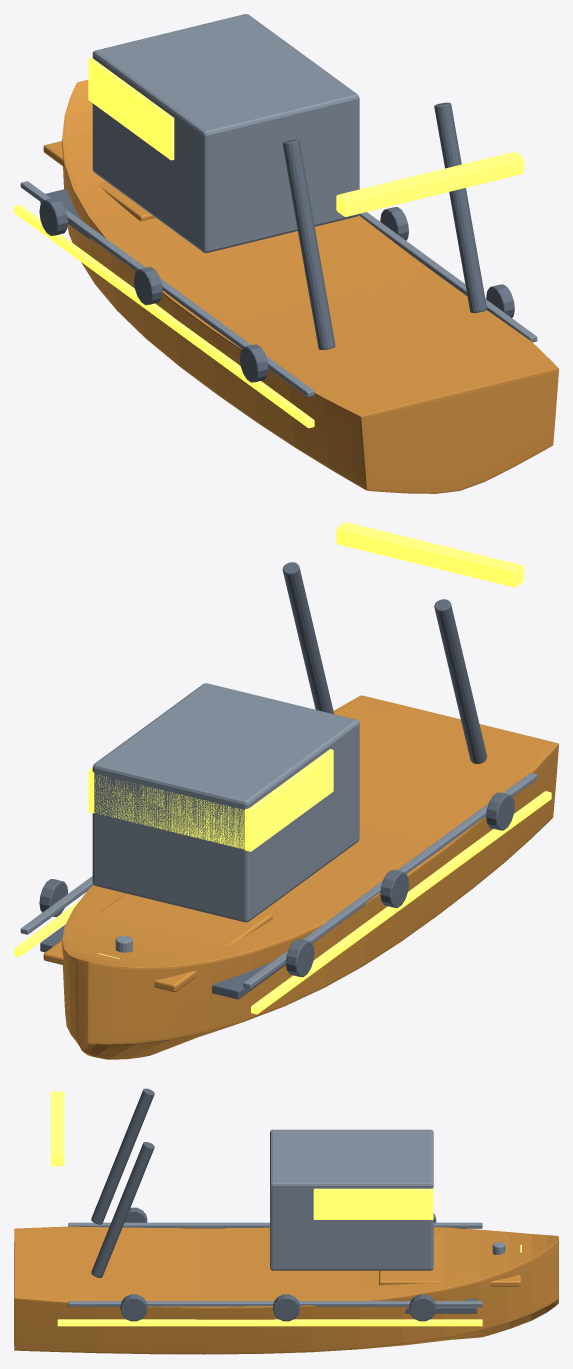
Rendered from boat_workboat.glb.
3 renders of one model, top to bottom at view 1: azimuth 30°, elevation 25°; view 2: azimuth 150°, elevation 25°; view 3: azimuth 270°, elevation 25°, orthographic. The views are drawn at different scales.
Visible parts, largest first — view 1: Workboat_Hull, Wheelhouse, CraneCrossBeam, BridgeWindows, CraneBoomL, Workboat_NeonRailL, CraneBoomR, Workboat_GunwaleTrimL, Workboat_GunwaleTrimR, Workboat_ForeDeck, FenderL_0, FenderL_1 (+3 smaller); view 2: Workboat_Hull, Wheelhouse, BridgeWindows, Workboat_ForeDeck, CraneCrossBeam, Workboat_NeonRailL, CraneBoomL, CraneBoomR, Workboat_GunwaleTrimL, Workboat_MainDeck, FenderL_0, FenderL_2 (+4 smaller); view 3: Workboat_Hull, Wheelhouse, BridgeWindows, Workboat_NeonRailR, Workboat_GunwaleTrimR, CraneBoomL, CraneBoomR, Workboat_ForeDeck, Workboat_GunwaleTrimL, CraneCrossBeam, FenderR_2, FenderR_0 (+2 smaller).
Boxes of the visible parts, x1,y1,x2,y2 form: Workboat_Hull: (62,80,558,493); Wheelhouse: (92,14,359,253); CraneCrossBeam: (336,151,523,216); BridgeWindows: (88,57,174,160); CraneBoomL: (282,139,335,349); Workboat_NeonRailL: (14,205,314,428); CraneBoomR: (434,102,486,312); Workboat_GunwaleTrimL: (20,181,314,397); Workboat_GunwaleTrimR: (359,212,537,342); Workboat_ForeDeck: (43,141,155,221); FenderL_0: (239,344,268,382); FenderL_1: (134,267,162,305); Workboat_Hull: (62,695,558,1059); Wheelhouse: (92,683,359,922); BridgeWindows: (88,749,333,851); Workboat_ForeDeck: (43,893,272,991); CraneCrossBeam: (336,522,523,587); Workboat_NeonRailL: (251,791,551,1014); CraneBoomL: (434,599,486,763); CraneBoomR: (282,562,333,713); Workboat_GunwaleTrimL: (243,773,537,988); Workboat_MainDeck: (40,924,285,999); FenderL_0: (486,792,514,830); FenderL_2: (286,939,314,977); Workboat_Hull: (14,1226,558,1354); Wheelhouse: (270,1129,433,1270); BridgeWindows: (313,1188,433,1219); Workboat_NeonRailR: (57,1319,482,1326); Workboat_GunwaleTrimR: (68,1301,482,1306); CraneBoomL: (91,1088,154,1224); CraneBoomR: (91,1142,154,1277); Workboat_ForeDeck: (379,1235,520,1286); Workboat_GunwaleTrimL: (68,1222,482,1228); CraneCrossBeam: (51,1091,64,1166); FenderR_2: (409,1294,436,1321); FenderR_0: (120,1294,147,1321).
Bounding box in the file's own units: 4.13 × 4.86 × 10.5.
